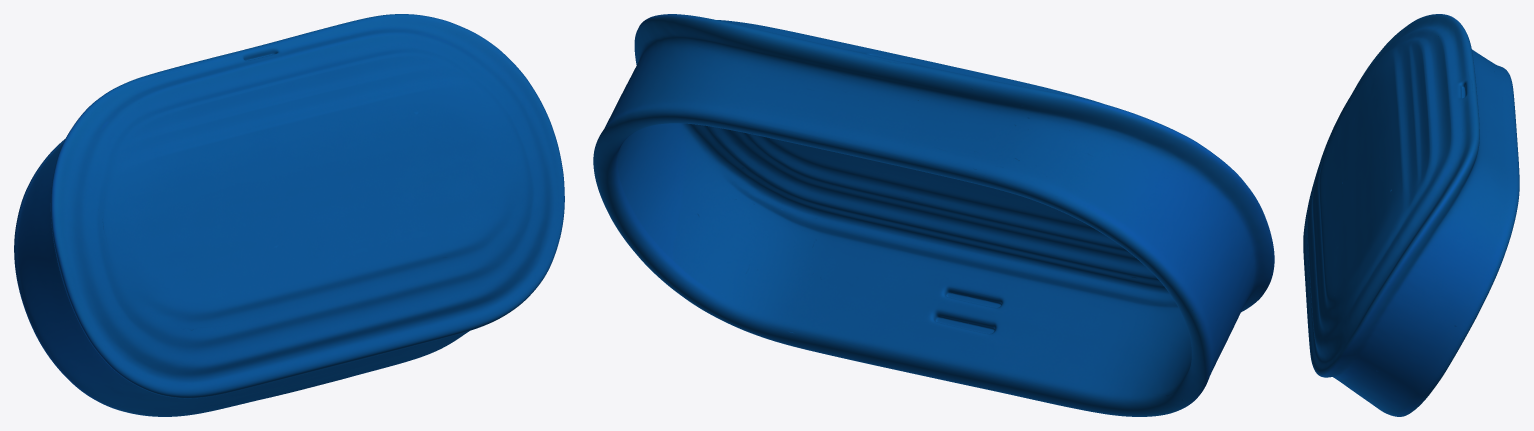
Rendered from pavo.glb.
The picture shows the model from 3 angles, left to right: view 1: azimuth 30°, elevation 25°; view 2: azimuth 150°, elevation 25°; view 3: azimuth 270°, elevation 25°; orthographic projection. The views are drawn at different scales.
Parts seen in each view (by area): view 1: texture_pbr_v128; view 2: texture_pbr_v128; view 3: texture_pbr_v128.
Boxes of the visible parts, x1=… form: texture_pbr_v128: x1=14, y1=14, x2=564, y2=416; texture_pbr_v128: x1=593, y1=14, x2=1274, y2=416; texture_pbr_v128: x1=1303, y1=14, x2=1519, y2=416.
Bounding box in the file's own units: 1.17 × 0.6668 × 0.4886.
Materials: 1 (1 with a texture image).
